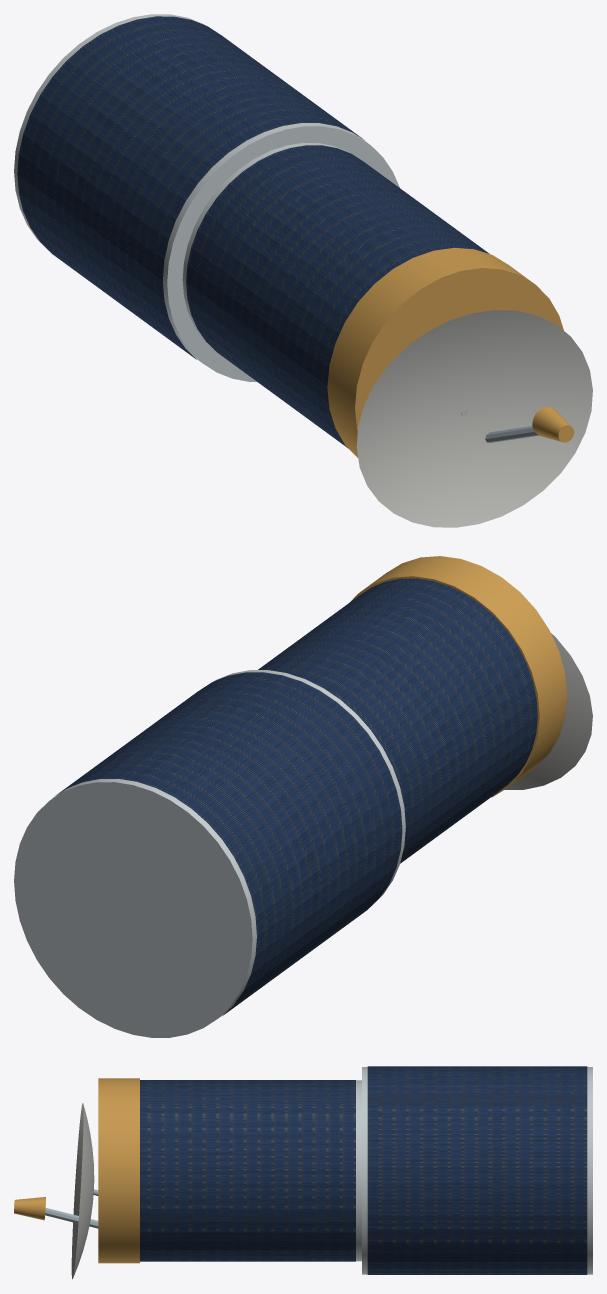
3 renders of one model, top to bottom at view 1: azimuth 30°, elevation 25°; view 2: azimuth 150°, elevation 25°; view 3: azimuth 270°, elevation 25°, orthographic. The views are drawn at different scales.
Visible parts, largest first — view 1: Body-mounted solar cells (×2), Deck-mounted reflector, Despun equipment deck, Solar drum core (×2), Feed horn; view 2: Body-mounted solar cells (×2), Solar drum core, Despun equipment deck, Deck-mounted reflector; view 3: Body-mounted solar cells (×2), Despun equipment deck, Solar drum core (×2), Deck-mounted reflector, Feed horn, Offset feed boom.
Part boxes in pixels (left/top/right/bottom): Body-mounted solar cells (×2): left=17, top=16, right=489, bottom=448; Deck-mounted reflector: left=356, top=310, right=592, bottom=527; Despun equipment deck: left=327, top=247, right=563, bottom=457; Solar drum core (×2): left=14, top=14, right=399, bottom=381; Feed horn: left=532, top=406, right=574, bottom=442; Body-mounted solar cells (×2): left=55, top=578, right=537, bottom=1015; Solar drum core: left=14, top=670, right=405, bottom=1037; Despun equipment deck: left=350, top=556, right=567, bottom=797; Deck-mounted reflector: left=504, top=633, right=592, bottom=789; Body-mounted solar cells (×2): left=140, top=1066, right=587, bottom=1274; Despun equipment deck: left=98, top=1078, right=139, bottom=1263; Solar drum core (×2): left=356, top=1067, right=592, bottom=1274; Deck-mounted reflector: left=71, top=1103, right=94, bottom=1279; Feed horn: left=14, top=1197, right=45, bottom=1220; Offset feed boom: left=45, top=1208, right=98, bottom=1228.
Size of the model in its own units: 2.21 by 2.24 by 6.13.
Materials: 5 (1 with a texture image).
